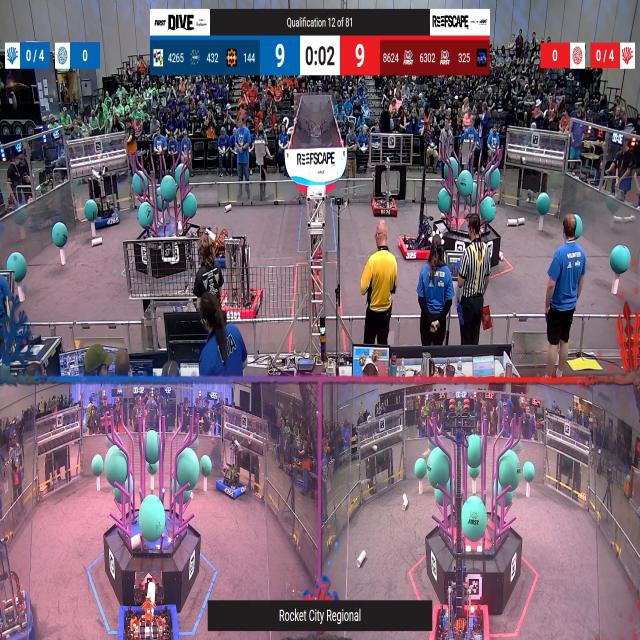scoreboard: (151, 37, 490, 76)
